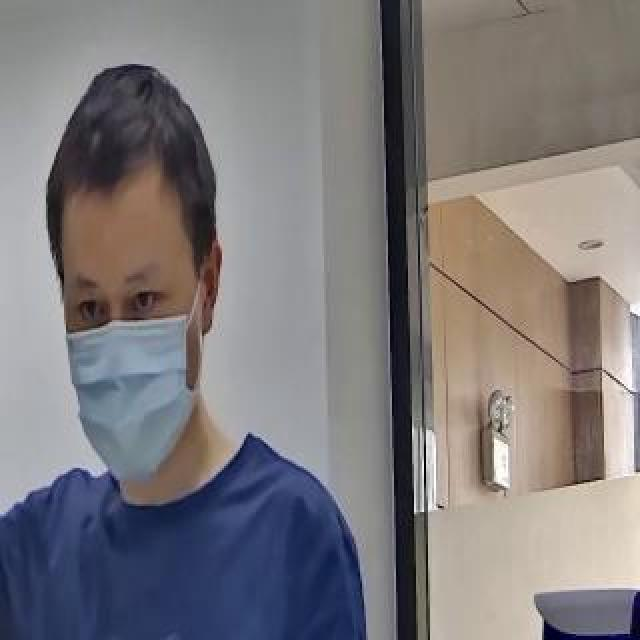Guns: (0, 192, 10, 428)
